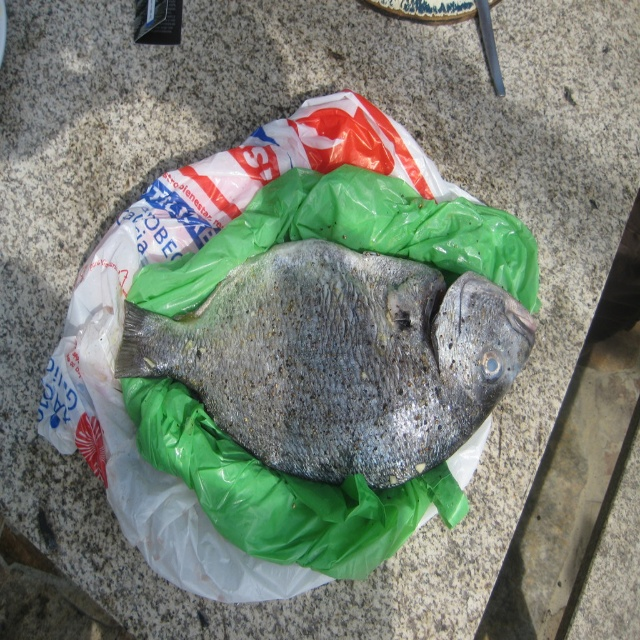Fish: (95, 188, 529, 531)
